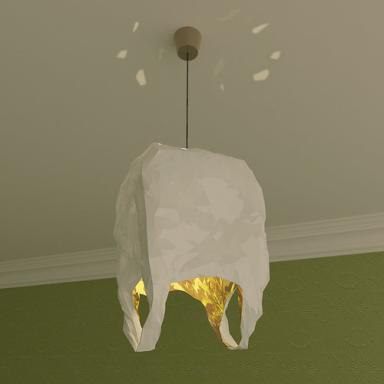plastic bag: (112, 141, 270, 352)
